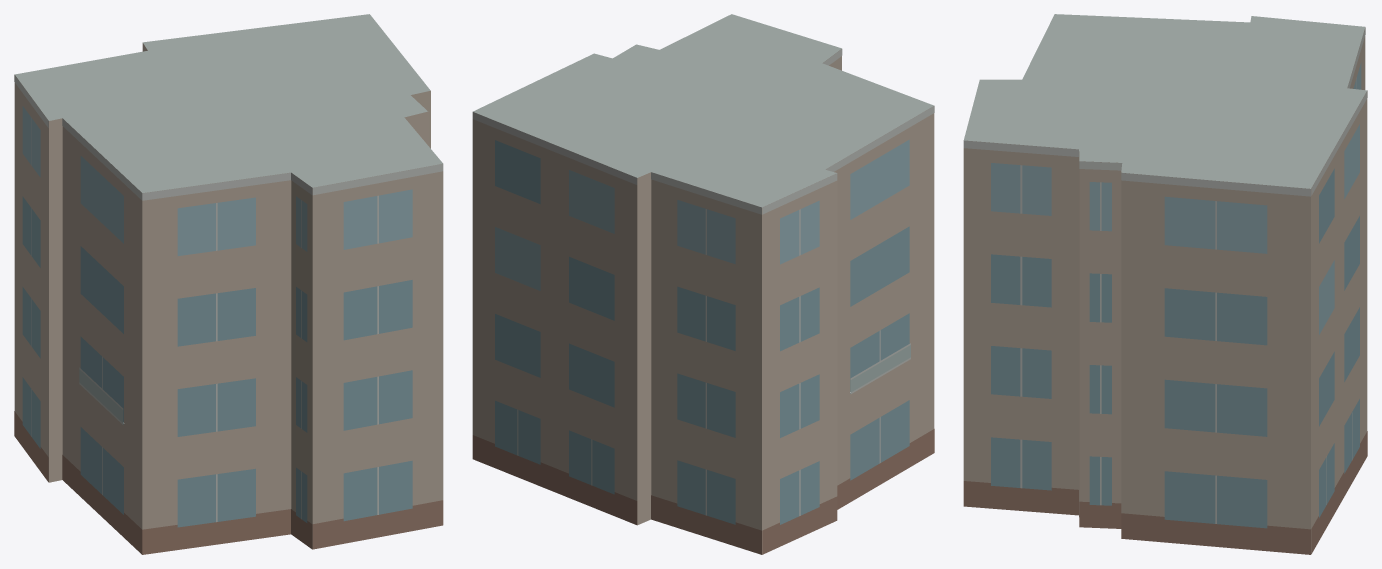
File: survey-upis-32713976.glb
The picture shows the model from 3 angles, left to right: view 1: azimuth 30°, elevation 25°; view 2: azimuth 150°, elevation 25°; view 3: azimuth 270°, elevation 25°; orthographic projection. The views are drawn at different scales.
Parts seen in each view (by area): view 1: survey-upis-32713976.tmp; view 2: survey-upis-32713976.tmp; view 3: survey-upis-32713976.tmp.
Boxes of the visible parts, x1=… form: survey-upis-32713976.tmp: x1=14, y1=14, x2=443, y2=554; survey-upis-32713976.tmp: x1=472, y1=14, x2=934, y2=554; survey-upis-32713976.tmp: x1=963, y1=14, x2=1367, y2=554.
Size of the model in its own units: 11.84 by 11.55 by 11.55.
